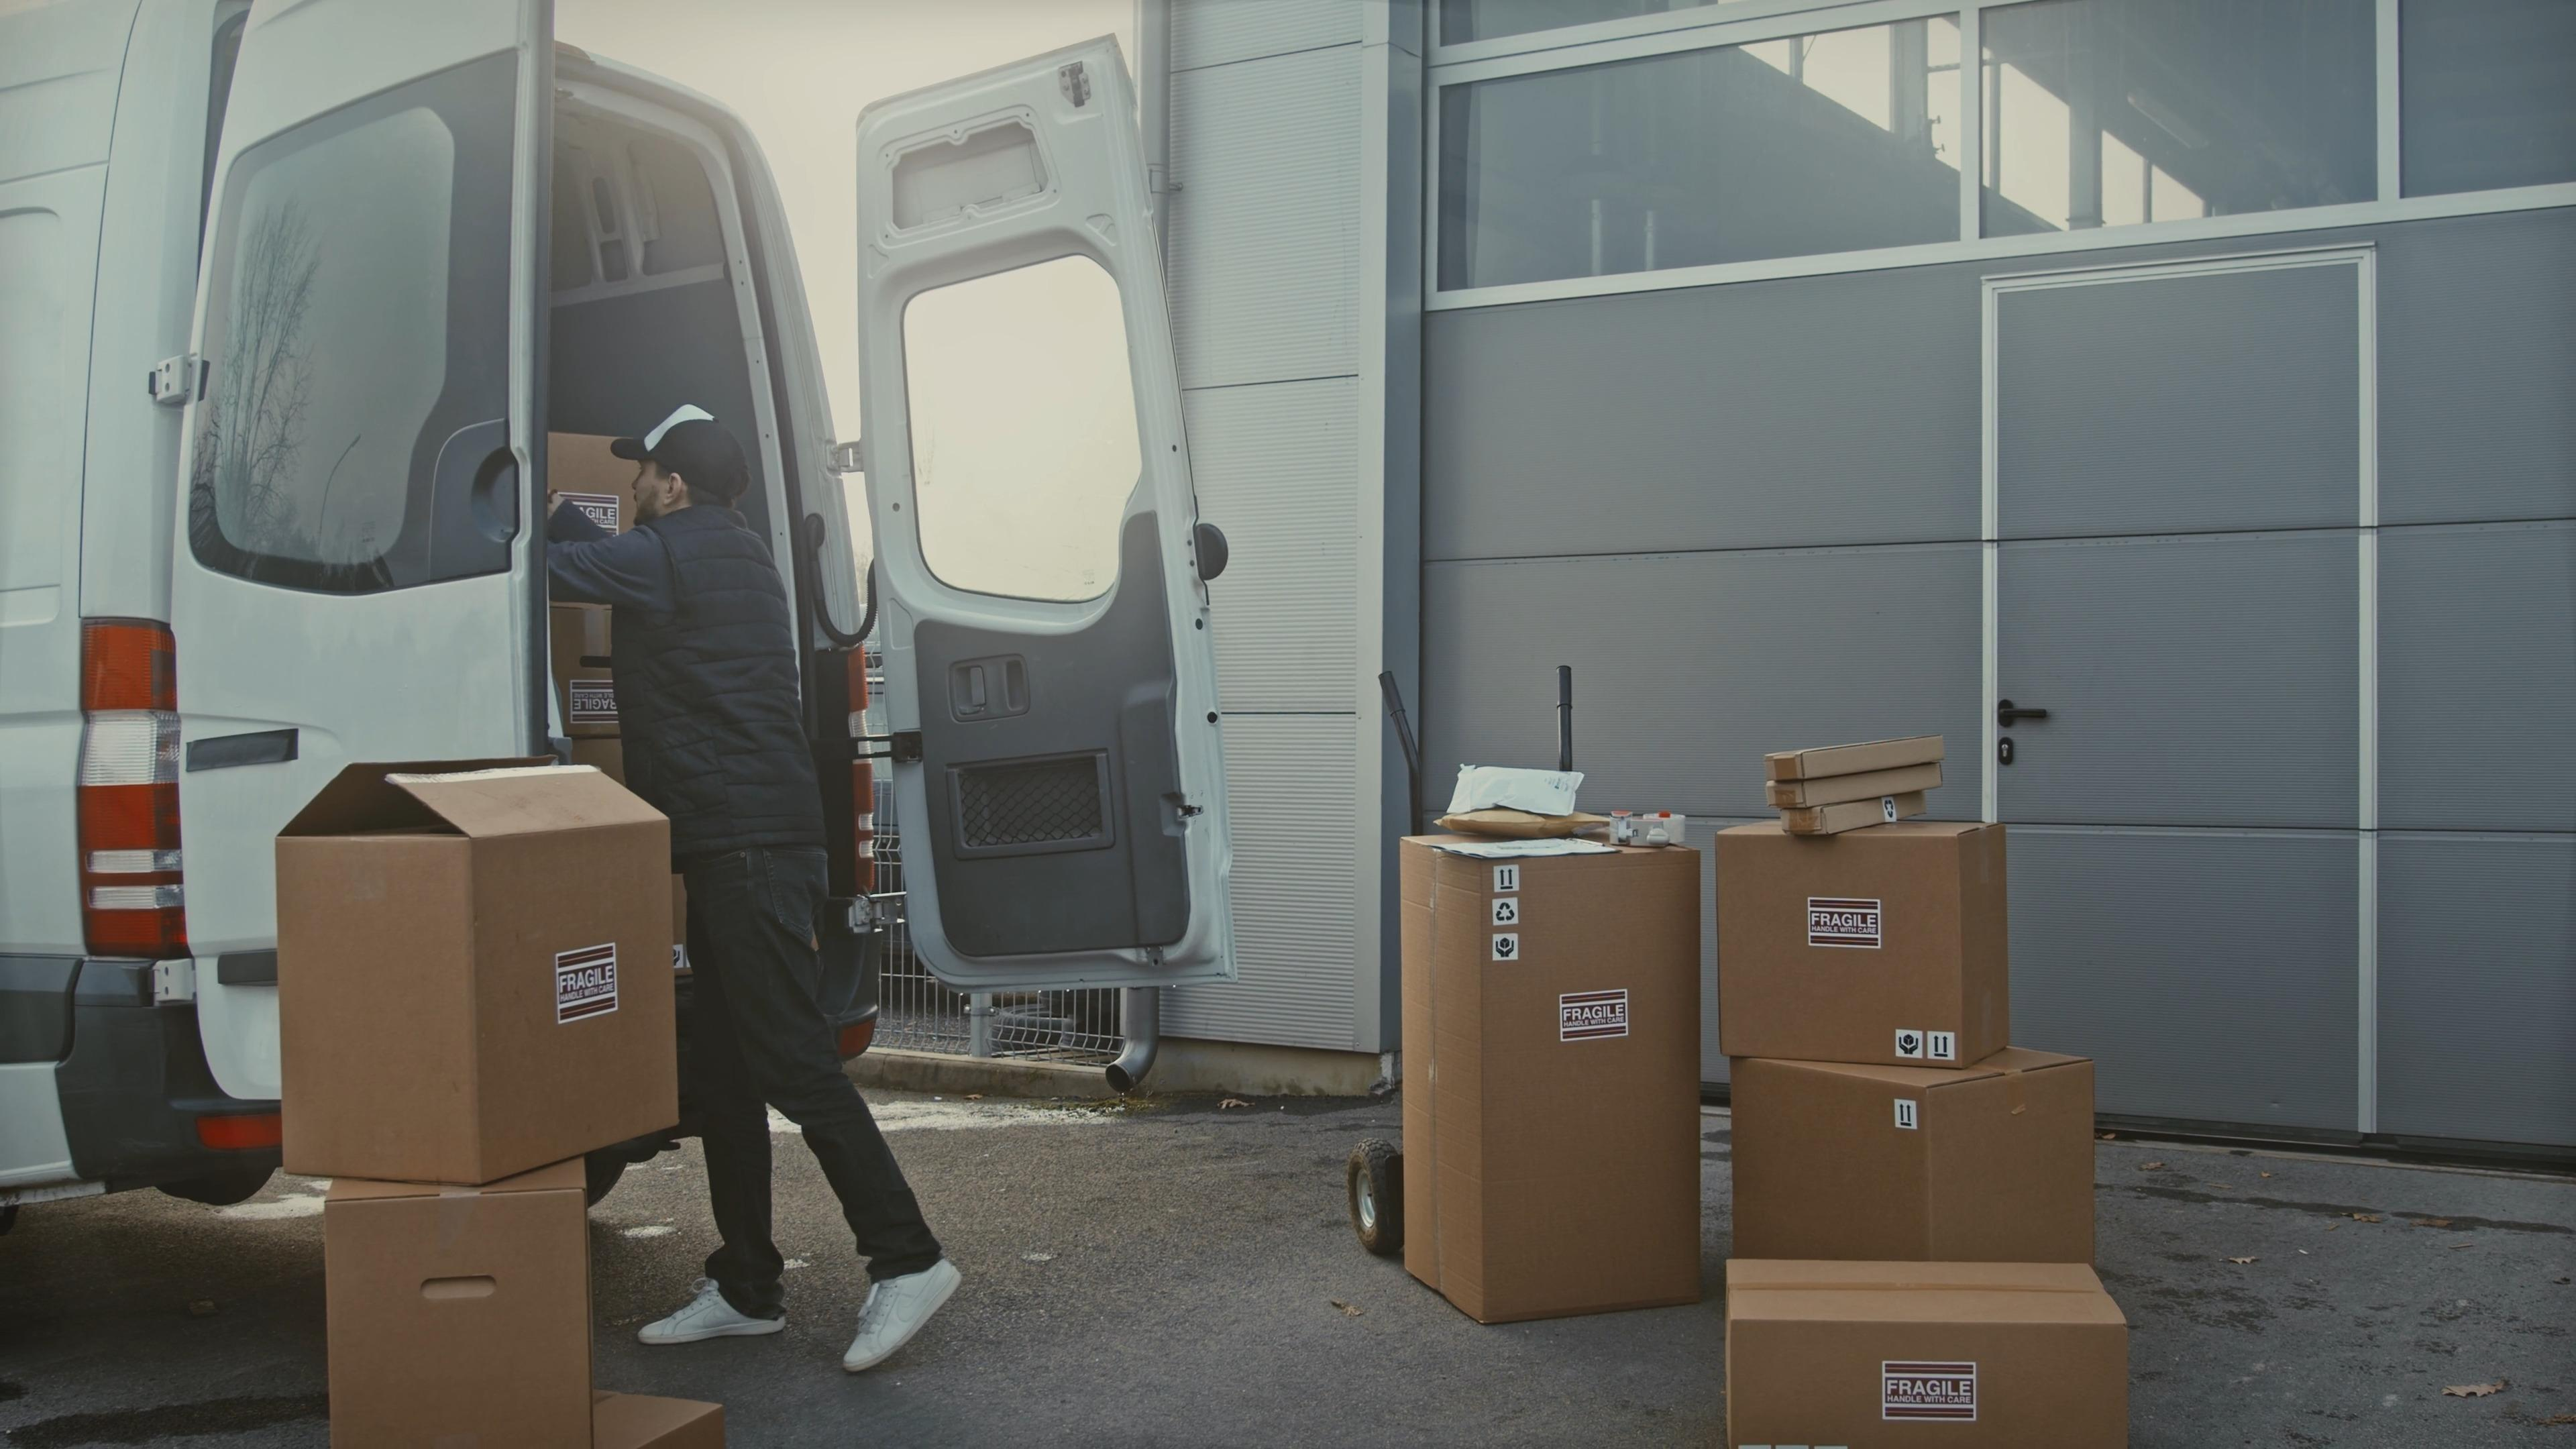-: (280, 759, 671, 1184), (1376, 830, 1709, 1297), (1714, 1258, 2135, 1449), (329, 1168, 600, 1442), (1718, 805, 2003, 1063), (1752, 1058, 2089, 1267)
